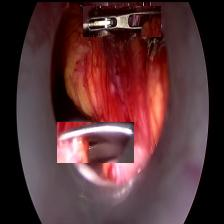Grasper: (82, 5, 160, 36)
Scissors: (56, 121, 133, 162)
